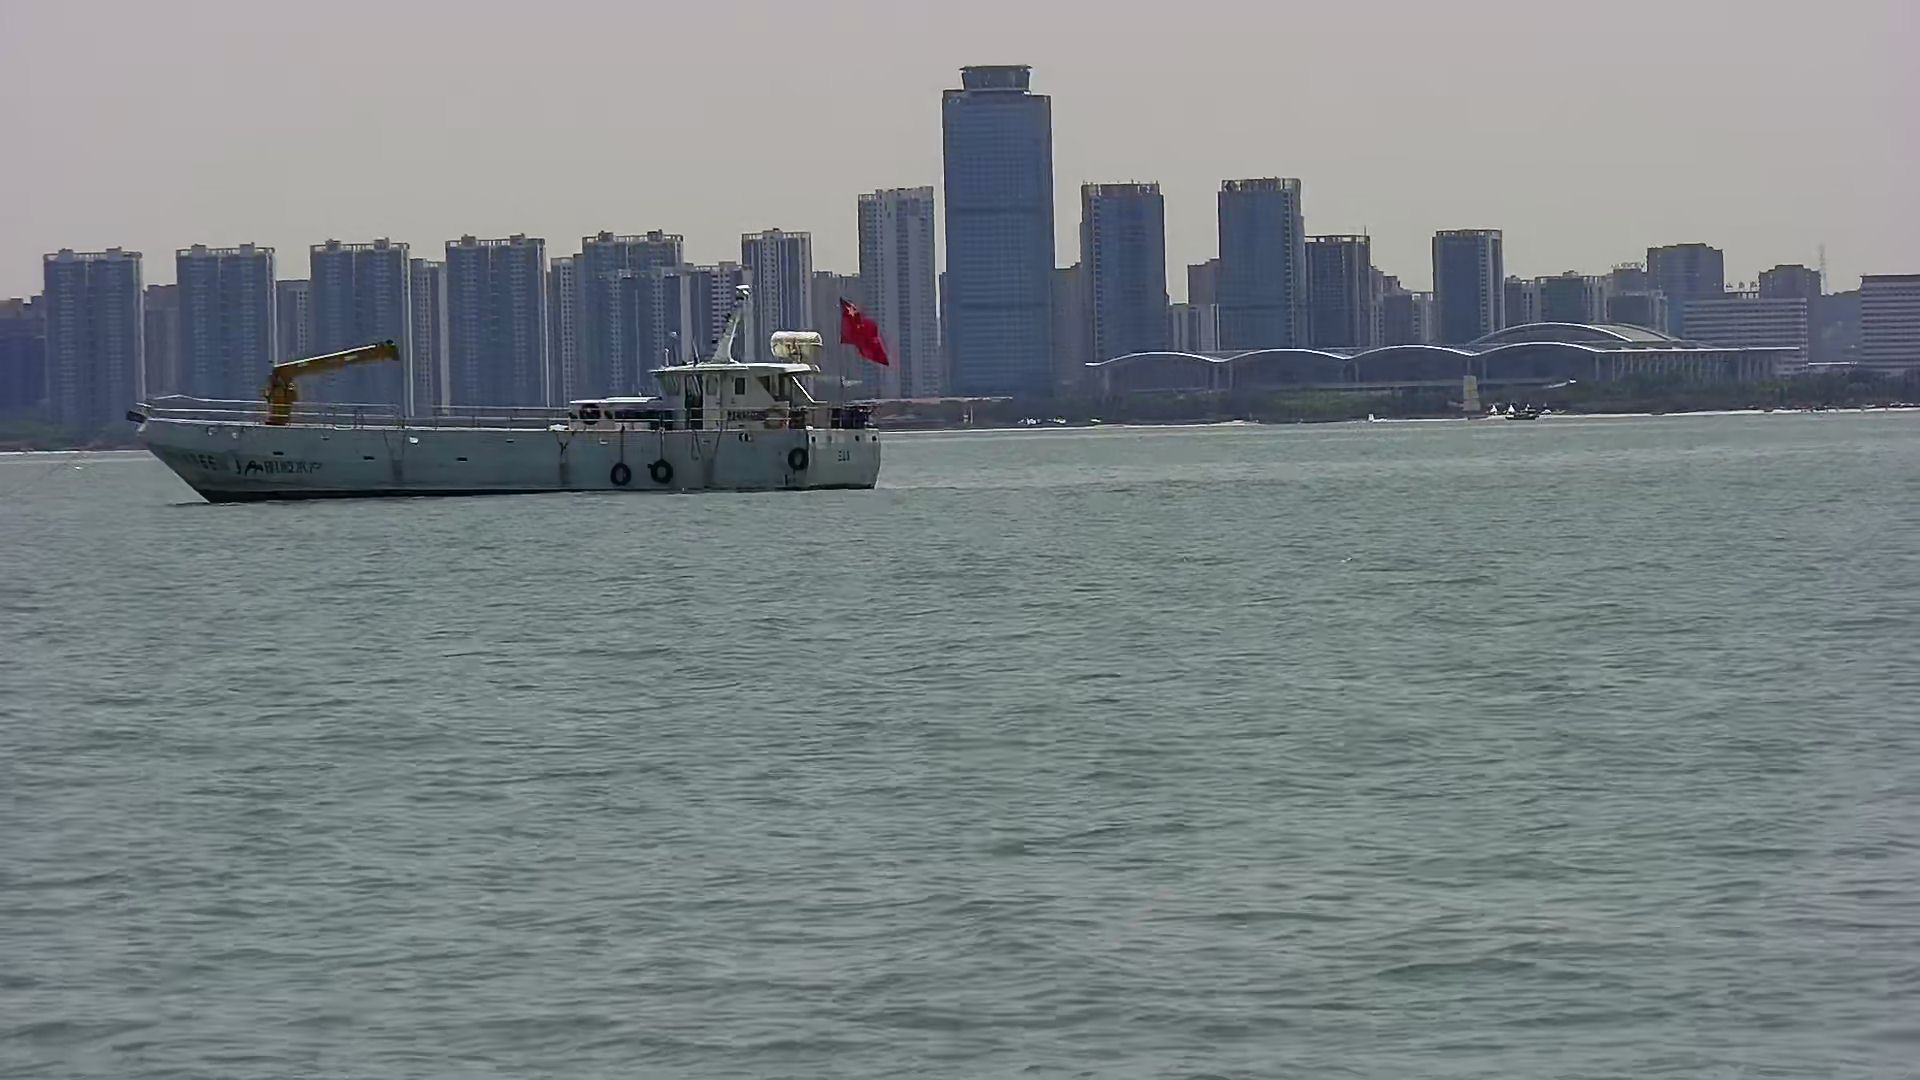ship: (133, 284, 899, 501)
